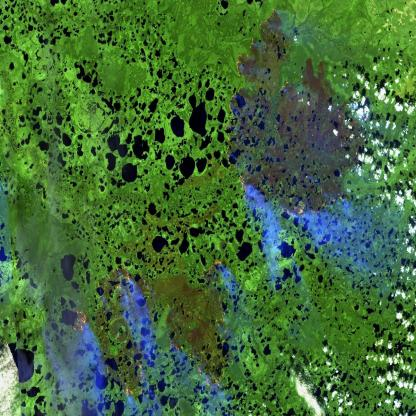fire: (232, 10, 278, 79), (163, 342, 214, 392), (94, 261, 136, 305), (277, 194, 315, 223), (199, 250, 232, 283), (211, 301, 235, 333), (67, 301, 86, 338), (235, 168, 252, 206), (276, 78, 292, 100), (118, 382, 134, 402)
